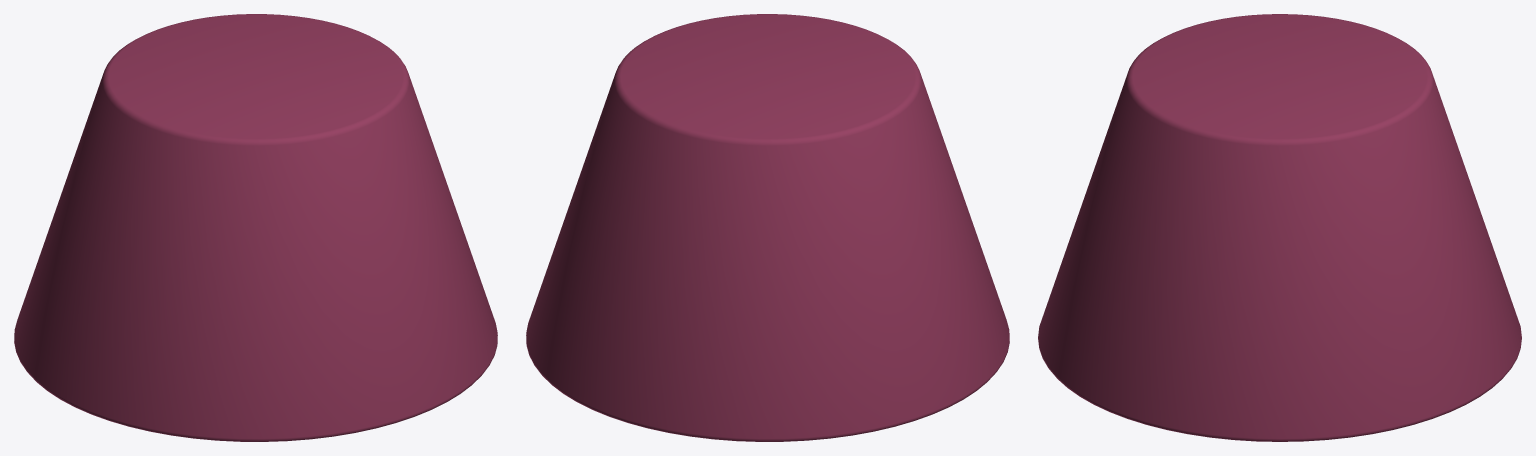
Rendered from skirt.glb.
3 views of the same model, side by side, from view 1: azimuth 30°, elevation 25°; view 2: azimuth 150°, elevation 25°; view 3: azimuth 270°, elevation 25° (orthographic).
Parts seen in each view (by area): view 1: IMPAR_SKIRT_PROXY; view 2: IMPAR_SKIRT_PROXY; view 3: IMPAR_SKIRT_PROXY.
Boxes of the visible parts, x1,y1,x2,y2 form: IMPAR_SKIRT_PROXY: (14, 14, 497, 441); IMPAR_SKIRT_PROXY: (526, 14, 1009, 441); IMPAR_SKIRT_PROXY: (1038, 14, 1521, 441).
Bounding box in the file's own units: 1.75 × 1.05 × 1.75.
